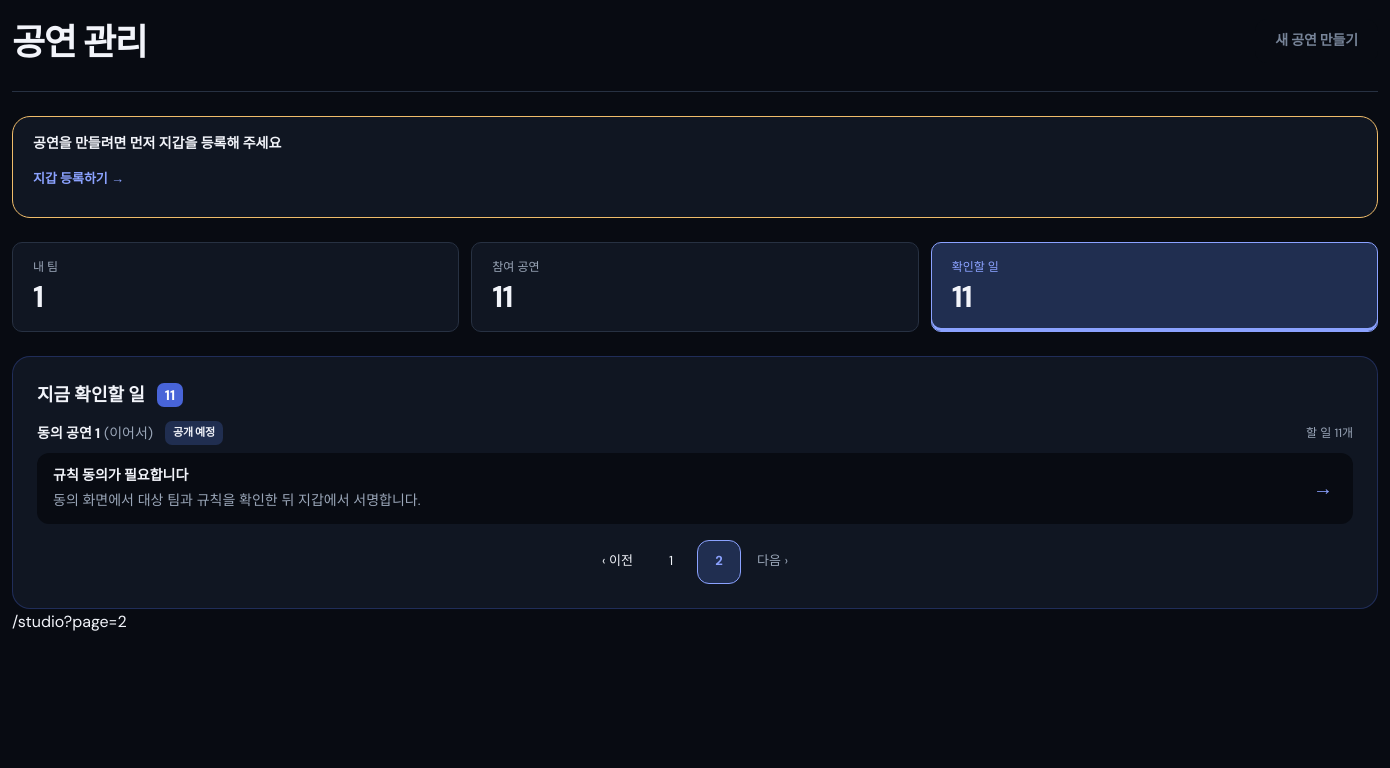
Test: 확인할 일 — 할 일 행 10개씩 페이지 › 탭을 바꾸면 페이지를 지운다
Step 1. Click the tab "참여 공연 11" → (516, 267), box [471,242,919,332]
(page scrolled)
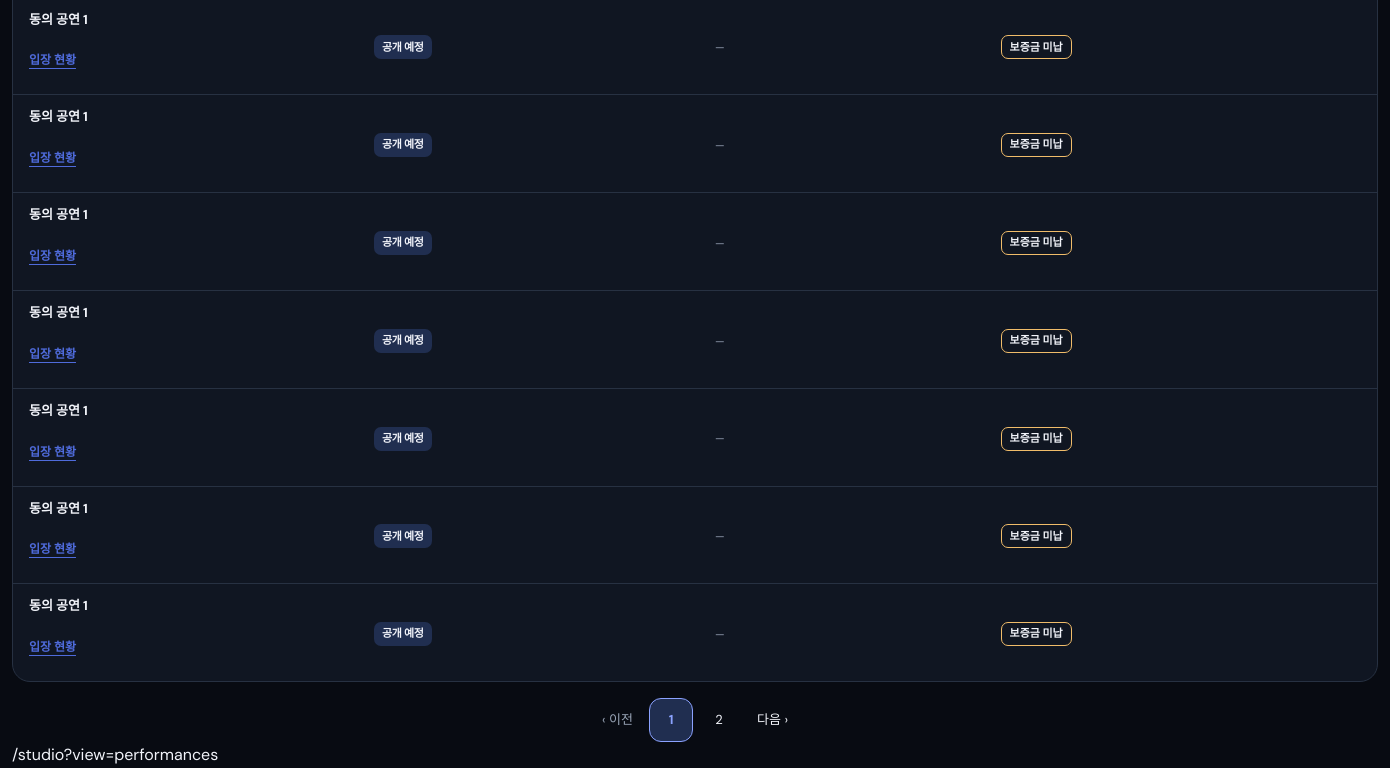
Expected: the text with test id "location" reads "/studio?view=performances", [12,744,218,765]
